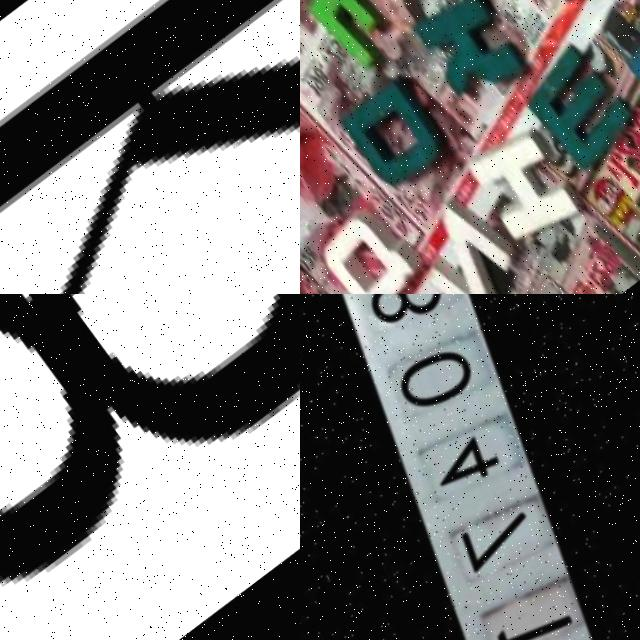0: (367, 312, 506, 441)
1: (474, 560, 600, 640)
4: (404, 400, 530, 518)
7: (434, 475, 568, 600)
8: (0, 294, 300, 640), (336, 294, 471, 357)
D: (336, 70, 471, 205)
F: (300, 0, 425, 76)
H: (461, 113, 602, 254)
K: (0, 0, 300, 294), (409, 0, 537, 111)
M: (526, 45, 640, 179)
Q: (313, 196, 444, 294)
Z: (406, 192, 554, 294)
